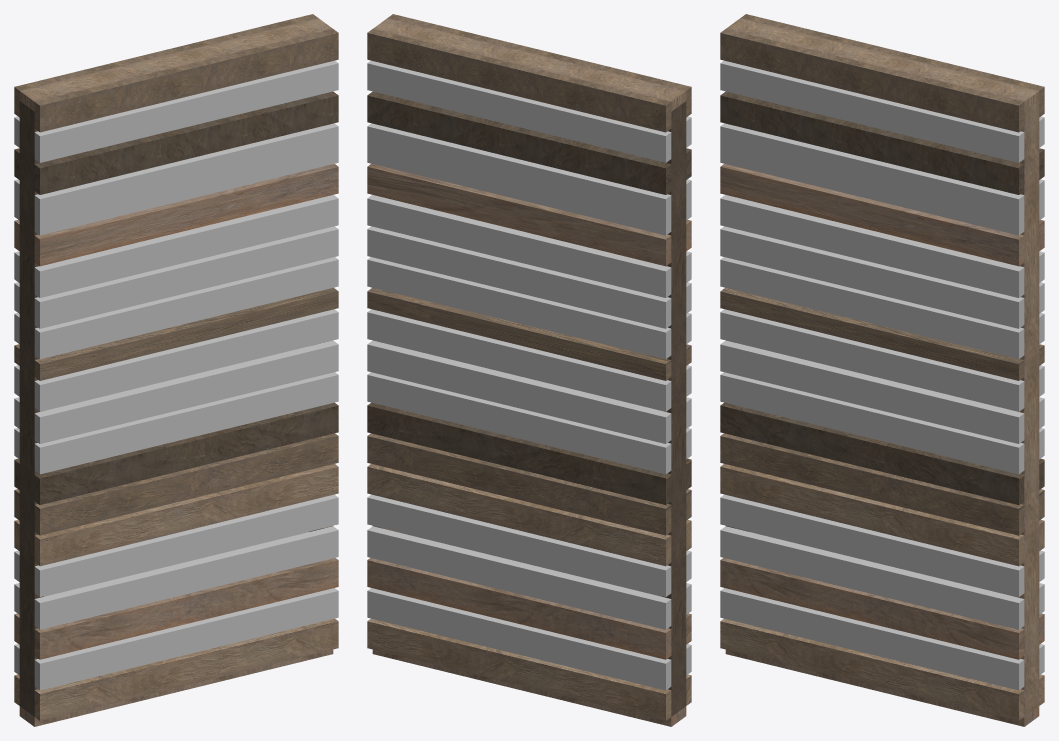
Rendered from HalfWallPeiceB.fbx.
The picture shows the model from 3 angles, left to right: view 1: azimuth 30°, elevation 25°; view 2: azimuth 150°, elevation 25°; view 3: azimuth 330°, elevation 25°; orthographic projection.
Parts seen in each view (by area): view 1: HallWallPeiceB; view 2: HallWallPeiceB; view 3: HallWallPeiceB.
Boxes of the visible parts, <box> form: HallWallPeiceB: <box>14,14,338,726</box>; HallWallPeiceB: <box>367,14,691,726</box>; HallWallPeiceB: <box>720,14,1044,726</box>.
Bounding box in the file's own units: 187 × 374 × 28.
